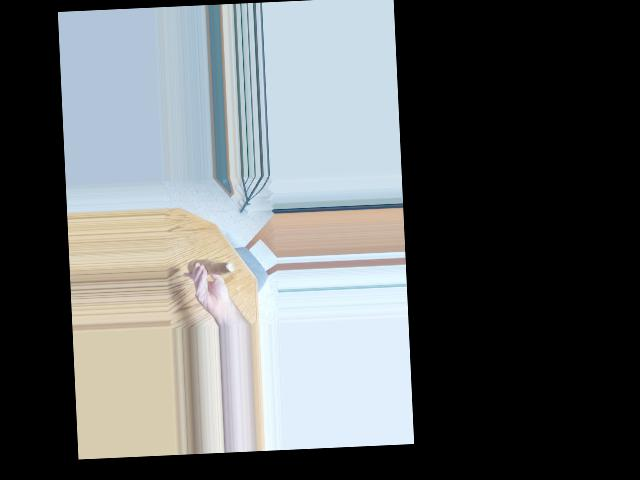sweet_potato: (191, 255, 231, 279)
